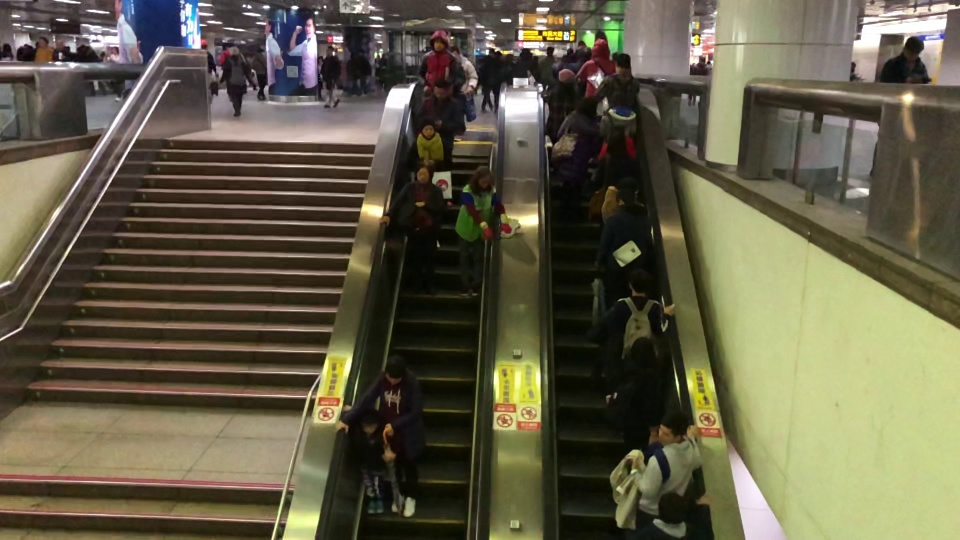person_head: (657, 409, 688, 446), (656, 491, 689, 522), (382, 354, 405, 385), (629, 337, 656, 362), (627, 269, 651, 294), (902, 36, 924, 59), (605, 131, 626, 155), (360, 408, 378, 433), (414, 160, 434, 182), (475, 165, 494, 188), (432, 78, 452, 99), (575, 97, 596, 117), (591, 38, 610, 58), (431, 30, 448, 51), (614, 53, 631, 72), (610, 91, 628, 107), (615, 189, 632, 205), (421, 118, 434, 137), (618, 177, 637, 190), (558, 68, 574, 83), (37, 36, 49, 47), (229, 45, 240, 56), (451, 44, 460, 56), (55, 39, 64, 49), (546, 45, 555, 55), (3, 42, 11, 52), (201, 38, 208, 49), (850, 61, 857, 72), (255, 47, 264, 55), (505, 52, 513, 61), (327, 44, 334, 54), (112, 46, 119, 54), (566, 46, 573, 54), (488, 47, 494, 56), (699, 54, 704, 61)
person_vbox: (343, 354, 425, 520), (379, 160, 445, 297), (867, 36, 931, 177), (630, 409, 704, 519), (454, 165, 513, 297), (604, 337, 667, 451), (413, 78, 467, 207), (609, 269, 675, 359), (406, 118, 449, 250), (553, 98, 596, 227), (341, 404, 387, 515), (598, 190, 654, 274), (637, 489, 711, 540), (418, 29, 465, 91), (450, 44, 479, 142), (596, 131, 641, 189), (575, 38, 616, 98), (596, 53, 640, 108), (219, 45, 250, 118), (546, 68, 575, 137), (599, 90, 636, 142), (600, 177, 638, 220), (319, 43, 342, 111), (478, 45, 495, 112), (200, 38, 217, 104), (107, 46, 124, 103), (251, 46, 268, 101), (538, 45, 555, 84), (34, 36, 53, 62), (500, 52, 515, 82), (52, 39, 69, 62), (692, 54, 709, 76), (849, 61, 862, 82), (2, 43, 13, 61)
